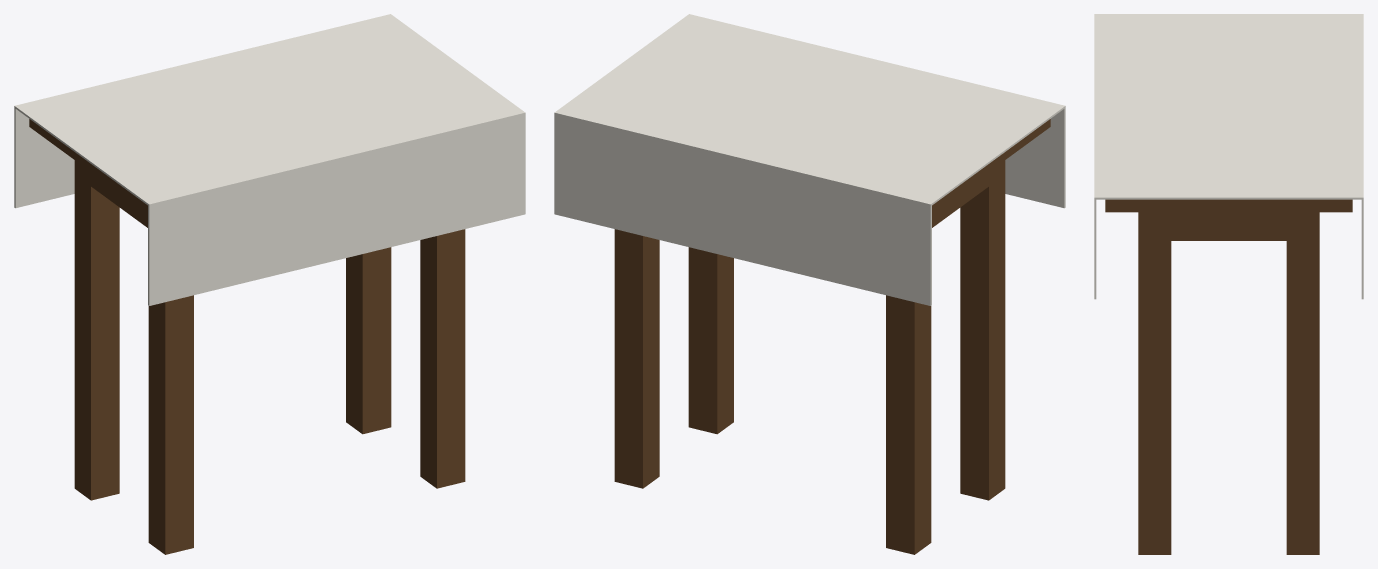
The picture shows the model from 3 angles, left to right: view 1: azimuth 30°, elevation 25°; view 2: azimuth 150°, elevation 25°; view 3: azimuth 270°, elevation 25°; orthographic projection.
Parts seen in each view (by area): view 1: parametric-variant-table-1st-pub-e406af28a9cff4de055c; view 2: parametric-variant-table-1st-pub-e406af28a9cff4de055c; view 3: parametric-variant-table-1st-pub-e406af28a9cff4de055c.
Part boxes in pixels (x1,y1,x2,y2): parametric-variant-table-1st-pub-e406af28a9cff4de055c: (14,14,525,554); parametric-variant-table-1st-pub-e406af28a9cff4de055c: (554,14,1065,554); parametric-variant-table-1st-pub-e406af28a9cff4de055c: (1094,14,1363,554).
Size of the model in its own units: 0.79 by 0.754 by 0.49.
